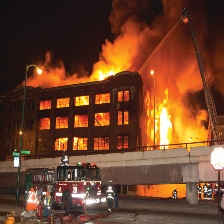fire: (149, 98, 184, 149), (96, 66, 119, 81), (60, 135, 82, 146), (75, 96, 91, 106)
smoke: (103, 1, 218, 58), (22, 63, 92, 91)
